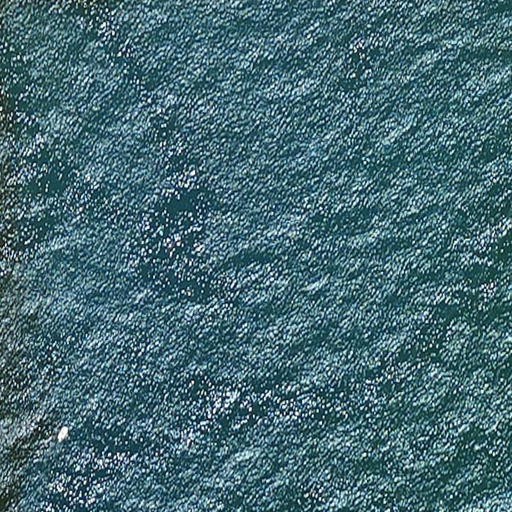ship: (55, 423, 70, 444)
